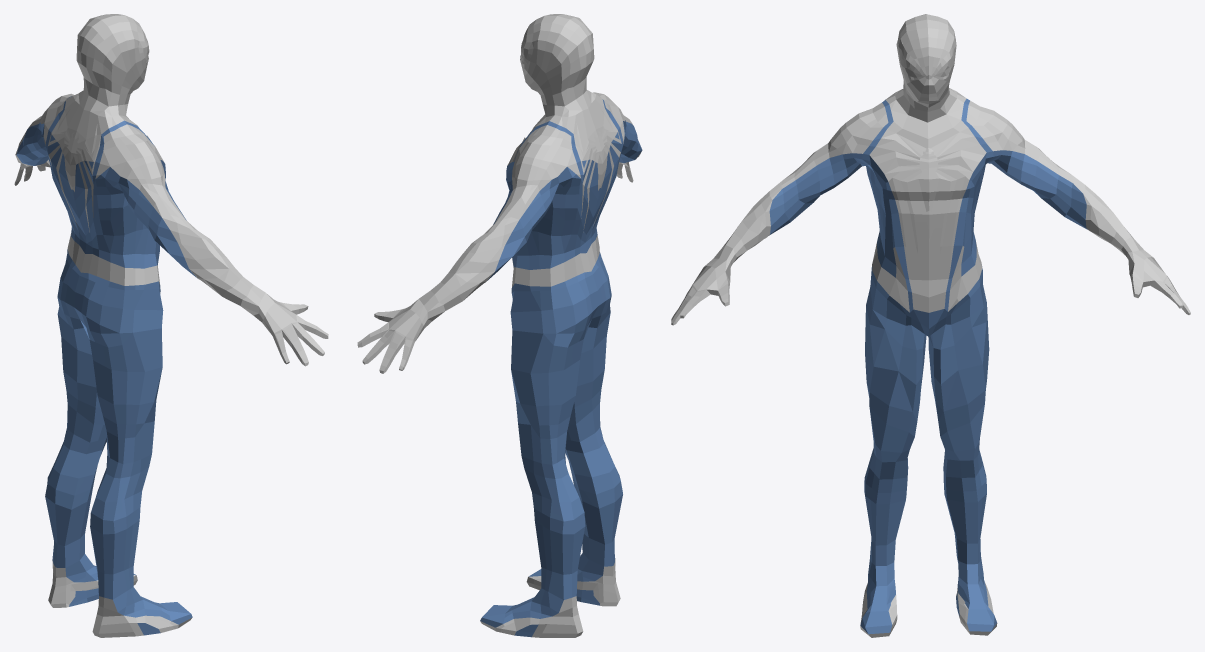
Rendered from spiderman.obj.
3 renders of one model, left to right at view 1: azimuth 30°, elevation 25°; view 2: azimuth 150°, elevation 25°; view 3: azimuth 270°, elevation 25°, orthographic.
Visible parts, largest first — view 1: scene; view 2: scene; view 3: scene.
Boxes of the visible parts, <box> form: scene: <box>14,14,328,637</box>; scene: <box>357,14,642,637</box>; scene: <box>671,14,1190,637</box>.
Size of the model in its own units: 0.4457 by 1.82 by 1.44.
